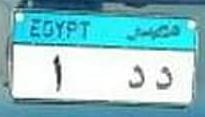1: (50, 54, 68, 94)
daal: (153, 63, 176, 92), (126, 63, 147, 91)
